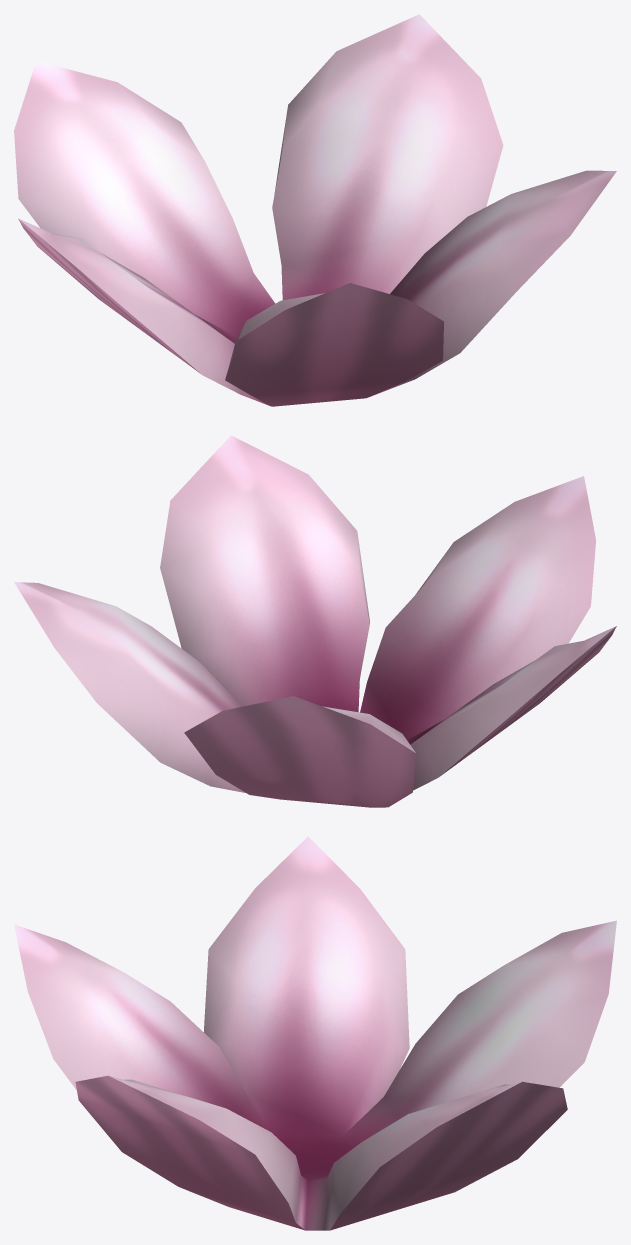
File: lotus2.fbx
3 renders of one model, top to bottom at view 1: azimuth 30°, elevation 25°; view 2: azimuth 150°, elevation 25°; view 3: azimuth 270°, elevation 25°, orthographic. The views are drawn at different scales.
Visible parts, largest first — view 1: lotus2; view 2: lotus2; view 3: lotus2.
Boxes of the visible parts, x1,y1,x2,y2 form: lotus2: (14,14,616,406); lotus2: (14,435,616,807); lotus2: (14,836,616,1230).
Size of the model in its own units: 4.44 by 1.81 by 4.45.
Materials: 1 (1 with a texture image).
